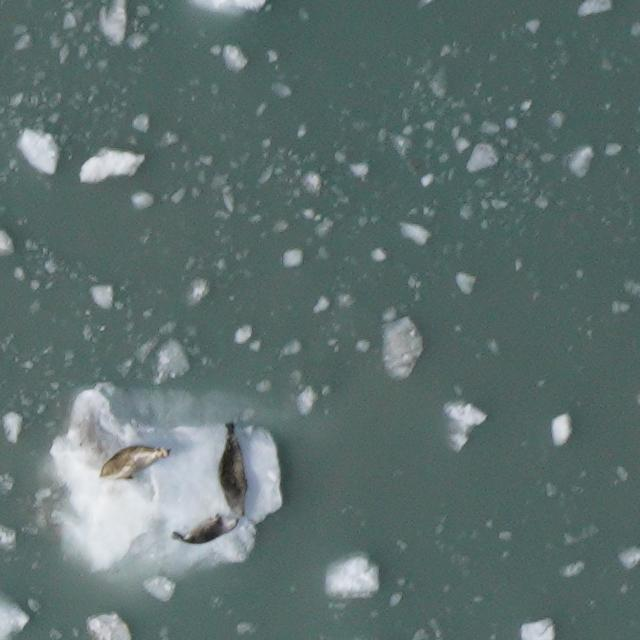seal: (207, 421, 255, 523), (168, 507, 246, 554), (97, 443, 173, 483)
